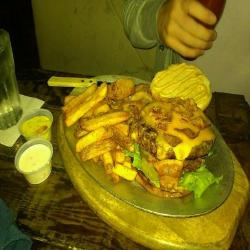burger: (141, 67, 213, 198)
fries: (59, 88, 140, 172)
salad: (177, 157, 224, 209)
